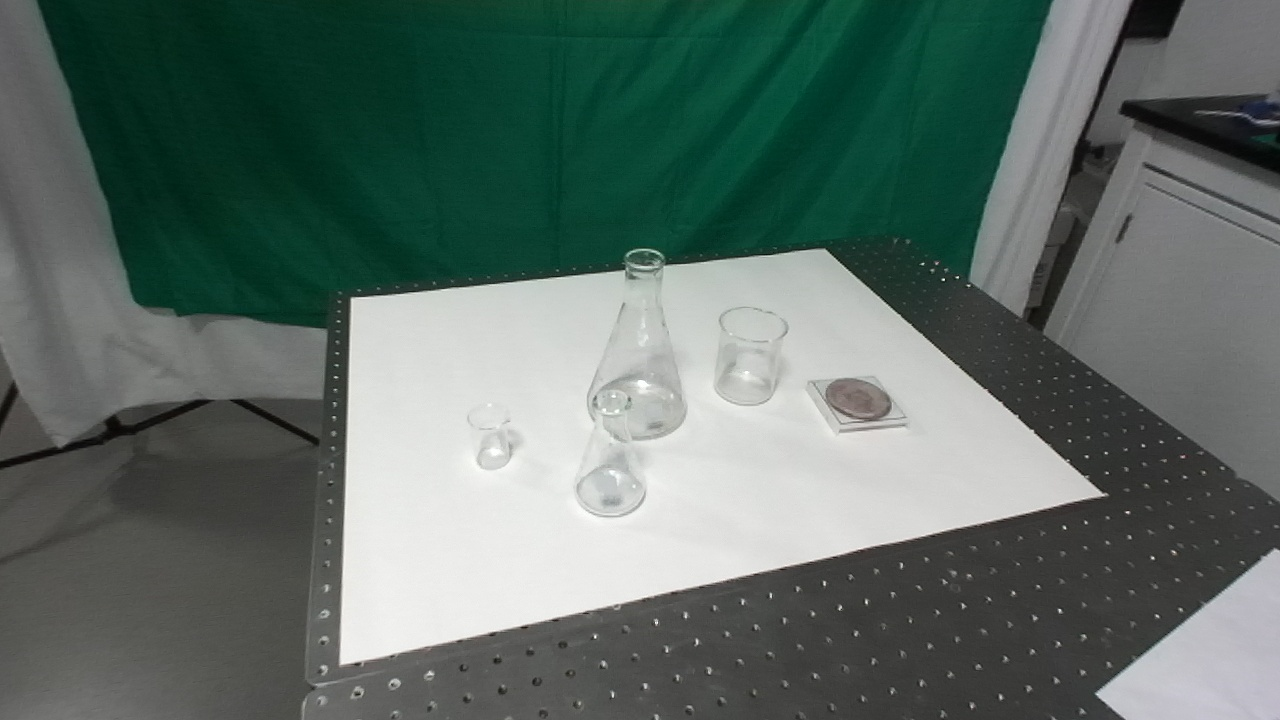glass: (583, 244, 691, 444), (570, 388, 651, 521), (710, 305, 791, 412), (463, 401, 514, 474)
plate: (803, 372, 911, 438)
